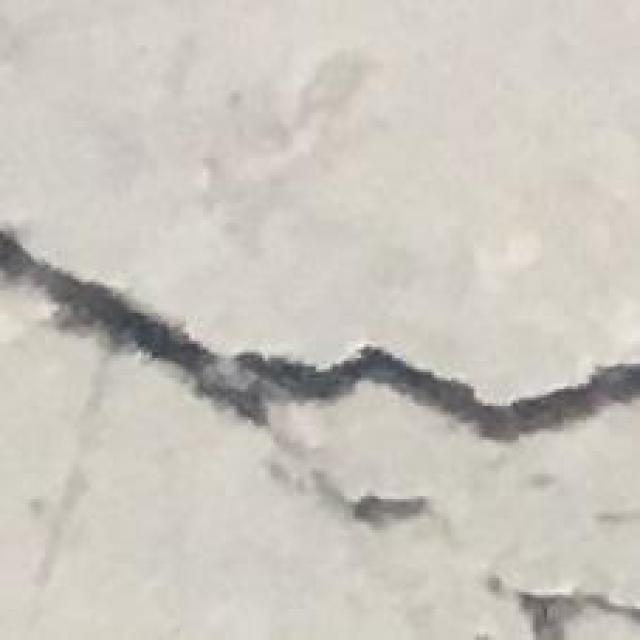Crack: (3, 228, 640, 437), (493, 572, 638, 640), (349, 488, 432, 527)
